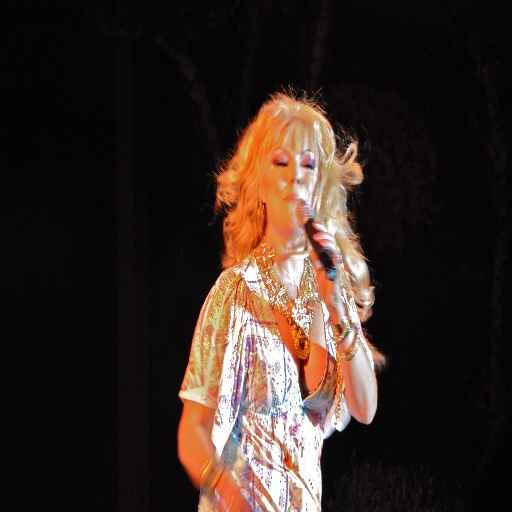hand: (309, 217, 344, 308), (211, 471, 249, 511)
